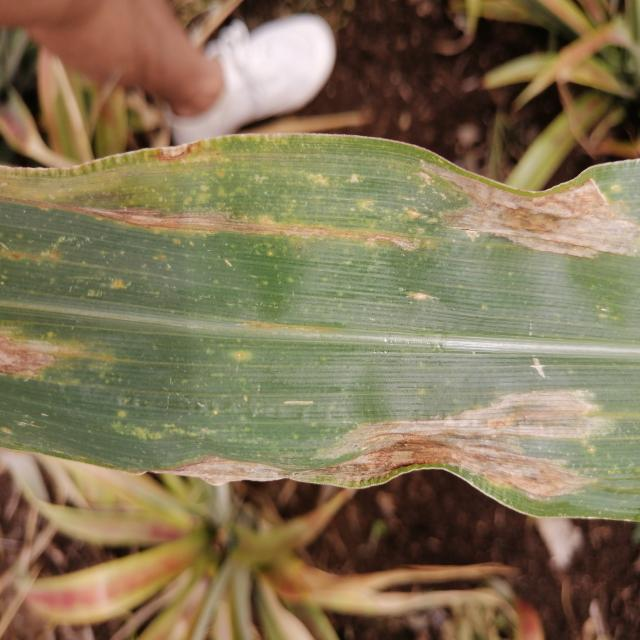Corn_Leaf_Blight: (0, 128, 640, 523)
